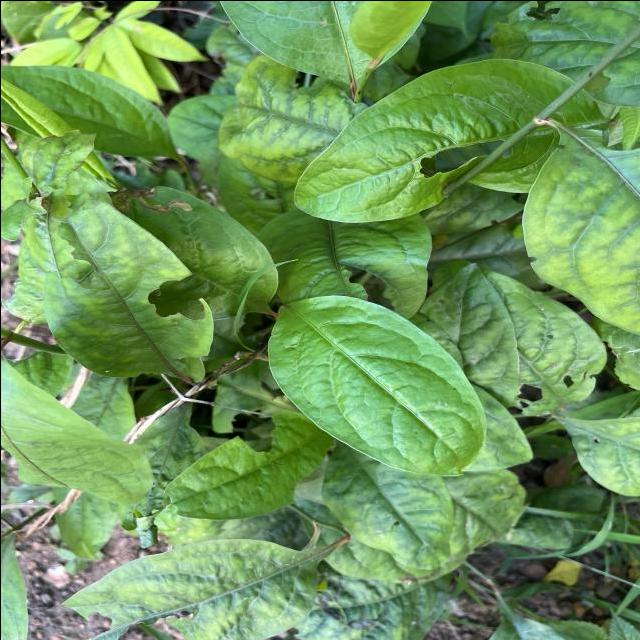Plumbago indica: (287, 51, 601, 228), (264, 293, 486, 478)
